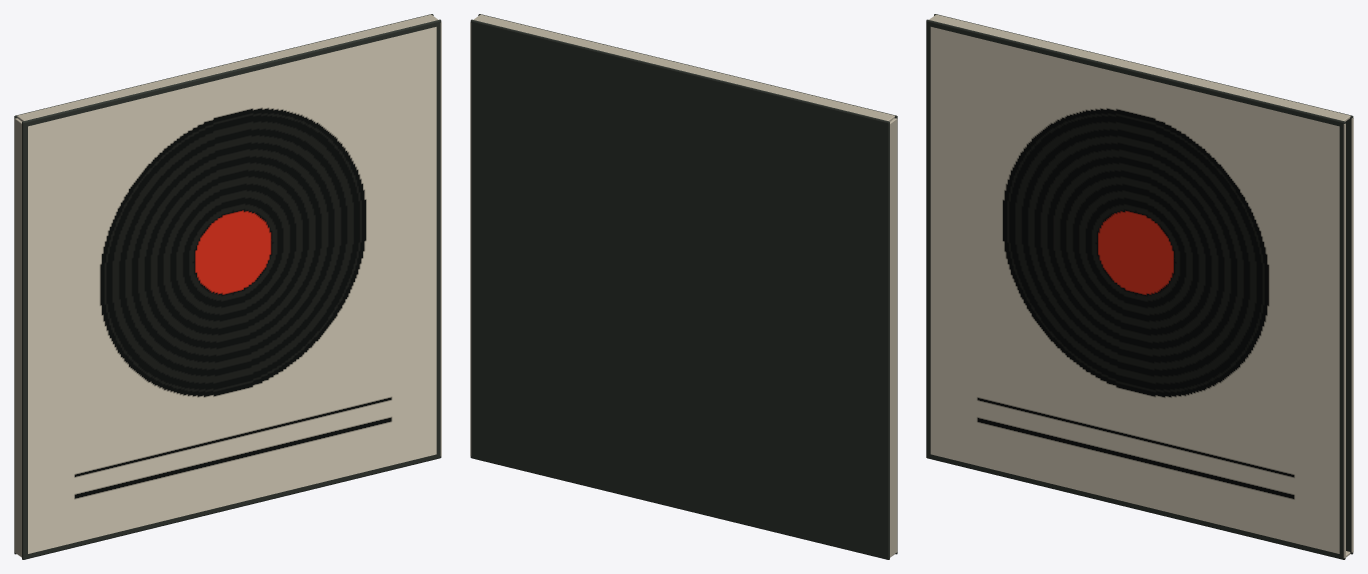
Rendered from sleeve.glb.
The picture shows the model from 3 angles, left to right: view 1: azimuth 30°, elevation 25°; view 2: azimuth 150°, elevation 25°; view 3: azimuth 330°, elevation 25°; orthographic projection.
Visible parts, largest first — view 1: SleeveArtwork, SleeveFrontPanel, SleeveSpine, SleeveTopFold, SleeveBackPanel, SleeveMouthFront; view 2: SleeveBackPanel, SleeveSpine, SleeveTopFold, SleeveFrontPanel, SleeveMouthBack; view 3: SleeveArtwork, SleeveFrontPanel, SleeveTopFold, SleeveBackPanel, SleeveMouthBack, SleeveMouthFront.
Part boxes in pixels (<box>): SleeveArtwork: <box>28,27,436,553</box>; SleeveFrontPanel: <box>22,19,441,559</box>; SleeveSpine: <box>14,118,21,557</box>; SleeveTopFold: <box>17,14,438,121</box>; SleeveBackPanel: <box>14,14,433,554</box>; SleeveMouthFront: <box>440,22,441,456</box>; SleeveBackPanel: <box>470,19,889,559</box>; SleeveSpine: <box>890,118,897,557</box>; SleeveTopFold: <box>473,14,894,121</box>; SleeveFrontPanel: <box>478,14,897,554</box>; SleeveMouthBack: <box>470,22,471,456</box>; SleeveArtwork: <box>930,27,1339,553</box>; SleeveFrontPanel: <box>926,19,1345,559</box>; SleeveTopFold: <box>929,14,1350,121</box>; SleeveBackPanel: <box>934,14,1353,554</box>; SleeveMouthBack: <box>1351,118,1353,552</box>; SleeveMouthFront: <box>1343,123,1345,558</box>.
Size of the model in its own units: 2 by 2 by 0.0764.
3 materials, 1 textured.
